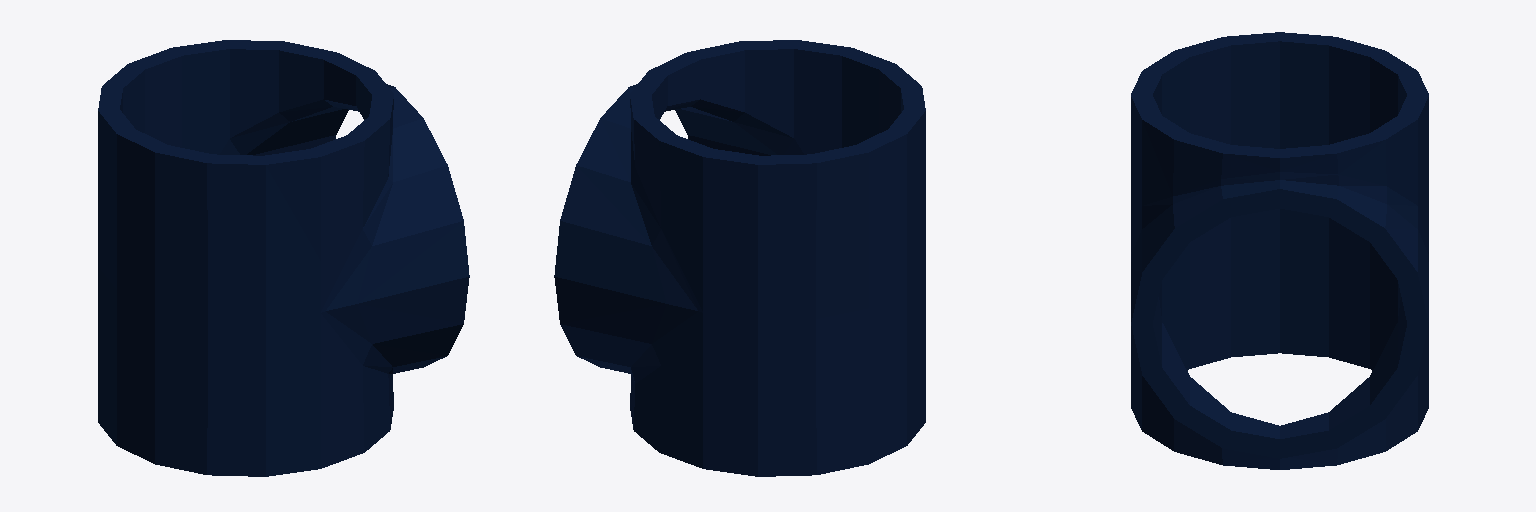
Rendered from Pipe_T.obj.
3 renders of one model, left to right at view 1: azimuth 30°, elevation 25°; view 2: azimuth 150°, elevation 25°; view 3: azimuth 270°, elevation 25°, orthographic.
Parts seen in each view (by area): view 1: Pipe_T_Cylinder.011; view 2: Pipe_T_Cylinder.011; view 3: Pipe_T_Cylinder.011.
Boxes of the visible parts, <box> form: Pipe_T_Cylinder.011: <box>98,40,469,476</box>; Pipe_T_Cylinder.011: <box>554,40,925,476</box>; Pipe_T_Cylinder.011: <box>1131,32,1428,469</box>.
Bounding box in the file's own units: 1.87 × 2 × 1.74.